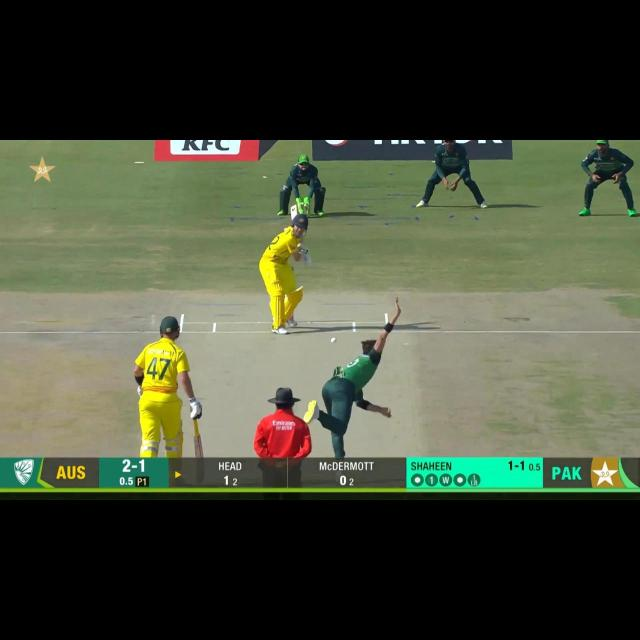bat: (192, 434, 208, 458)
toe: (288, 202, 298, 219)
